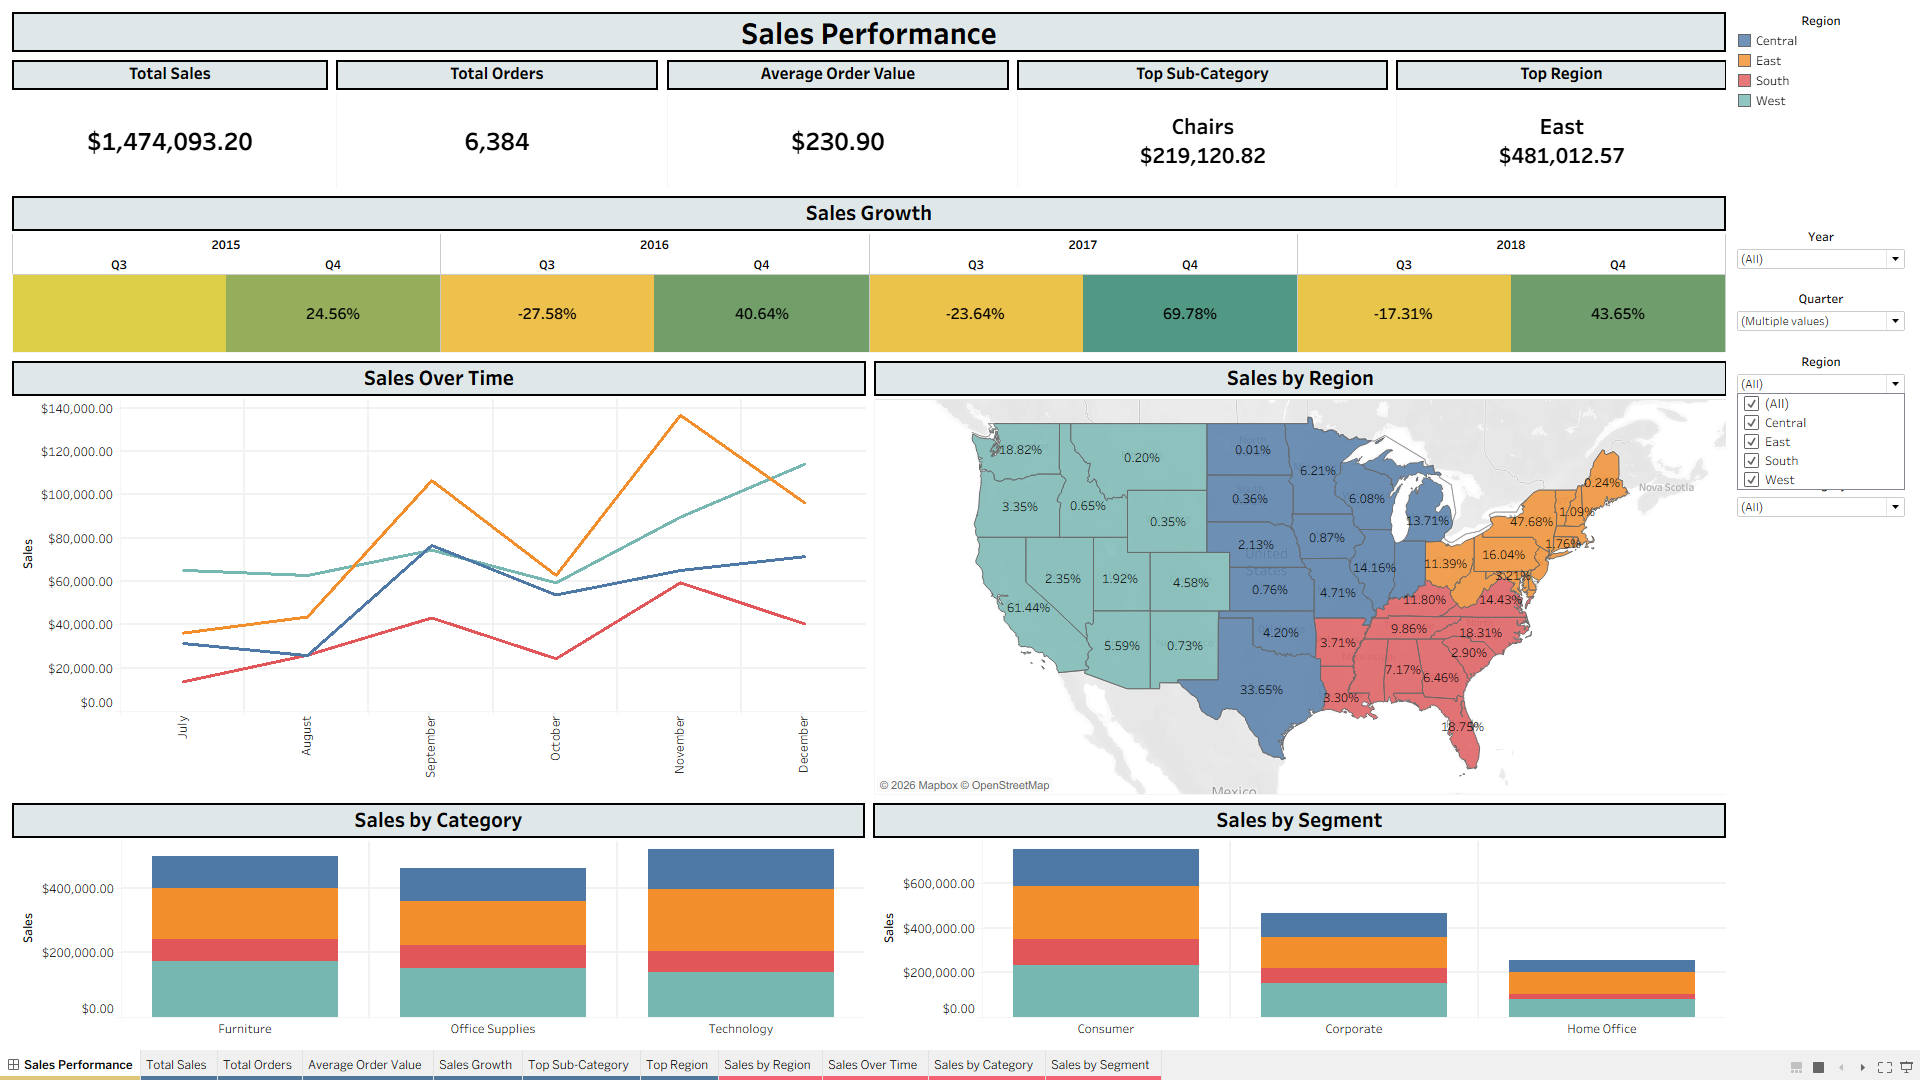

Layout of this report page (visuals, bound fields, positions):
{"tool":"tableau","page":{"name":"Sales Performance","canvas":[1000,1000],"units":"permille","ordinal":0},"visuals":[{"type":"title","box":[4.3,9.8,896.9,58.5]},{"type":"legend","title":"Sales by Region","param":"[federated.05i0j671lpl5bh1a86nyh1atq0u8].[none:Region:nk]","box":[901.1,9.8,94.6,205.2]},{"type":"worksheet","title":"Total Sales","mark":"Automatic","box":[4.3,68.3,169,127.6]},{"type":"worksheet","title":"Total Orders","mark":"Automatic","box":[173.2,68.3,172,127.6]},{"type":"worksheet","title":"Average Order Value","mark":"Automatic","box":[345.2,68.3,182.4,127.6]},{"type":"worksheet","title":"Top Sub-Category","mark":"Automatic","box":[527.6,68.3,197.2,127.6]},{"type":"worksheet","title":"Top Region","mark":"Automatic","box":[724.8,68.3,176.3,127.6]},{"type":"worksheet","title":"Sales Growth","mark":"Square","cols":["Order Date","Order Date"],"box":[4.3,195.9,896.9,154.1]},{"type":"filter","title":"Sales by Region","param":"[federated.05i0j671lpl5bh1a86nyh1atq0u8].[yr:Order Date:ok]","box":[901.1,214.9,94.6,59]},{"type":"filter","title":"Sales by Region","param":"[federated.05i0j671lpl5bh1a86nyh1atq0u8].[qr:Order Date:ok]","box":[901.1,273.9,94.6,59]},{"type":"filter","title":"Sales by Region","param":"[federated.05i0j671lpl5bh1a86nyh1atq0u8].[none:Region:nk]","box":[901.1,332.9,94.6,75.6]},{"type":"worksheet","title":"Sales Over Time","mark":"Automatic","rows":["Sales"],"cols":["Order Date"],"box":[4.3,350,448.8,413.3]},{"type":"worksheet","title":"Sales by Region","mark":"Multipolygon","box":[453.1,350,448,413.3]},{"type":"filter","title":"Sales by Region","param":"[federated.05i0j671lpl5bh1a86nyh1atq0u8].[none:Segment:nk]","box":[901.1,408.5,94.6,74.4]},{"type":"filter","title":"Sales by Region","param":"[federated.05i0j671lpl5bh1a86nyh1atq0u8].[none:Category:nk]","box":[901.1,482.9,94.6,76.8]},{"type":"blank","box":[901.1,559.8,94.6,430.5]},{"type":"worksheet","title":"Sales by Category","mark":"Automatic","rows":["Sales"],"cols":["Category"],"box":[4.3,763.3,448.3,227]},{"type":"worksheet","title":"Sales by Segment","mark":"Automatic","rows":["Sales"],"cols":["Segment"],"box":[452.6,763.3,448.5,227]}]}

Visuals, with their boxes on the dashboard's canvas, which has no fixed pixel size, in thousandths of its width and height (x1, y1, x2, y2). These are canvas units, not pixel positions in the 1920x1080 screenshot, which may show the page scaled, cropped or inside an application window:
title: 4:10:901:68
"Sales by Region" legend: 901:10:996:215
"Total Sales" worksheet: 4:68:173:196
"Total Orders" worksheet: 173:68:345:196
"Average Order Value" worksheet: 345:68:528:196
"Top Sub-Category" worksheet: 528:68:725:196
"Top Region" worksheet: 725:68:901:196
"Sales Growth" worksheet (Square marks): 4:196:901:350
"Sales by Region" filter: 901:215:996:274
"Sales by Region" filter: 901:274:996:333
"Sales by Region" filter: 901:333:996:408
"Sales Over Time" worksheet: 4:350:453:763
"Sales by Region" worksheet (Multipolygon marks): 453:350:901:763
"Sales by Region" filter: 901:408:996:483
"Sales by Region" filter: 901:483:996:560
blank: 901:560:996:990
"Sales by Category" worksheet: 4:763:453:990
"Sales by Segment" worksheet: 453:763:901:990
